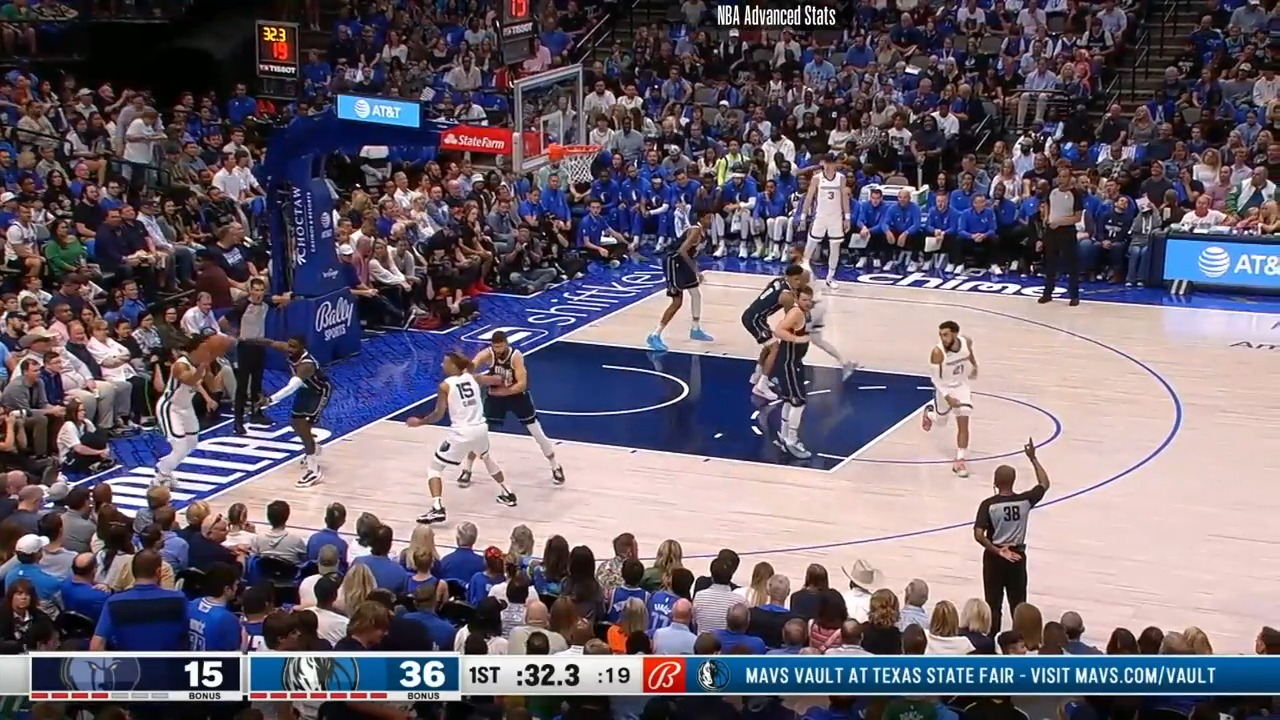net: (545, 142, 597, 189)
player: (415, 345, 518, 522), (468, 329, 562, 488), (785, 241, 864, 381), (921, 319, 984, 482), (652, 214, 720, 353), (149, 351, 210, 503), (277, 333, 336, 489), (739, 262, 803, 400), (772, 284, 822, 459), (798, 154, 855, 290)
referee: (970, 453, 1052, 630), (226, 278, 290, 444), (1043, 171, 1092, 308)
